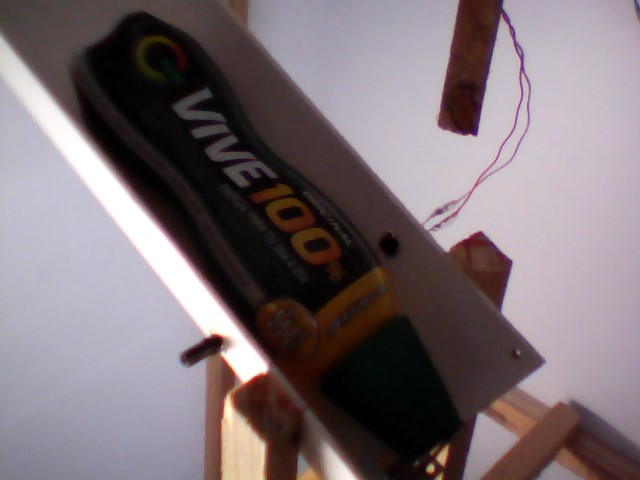plastico: (60, 4, 470, 454)
